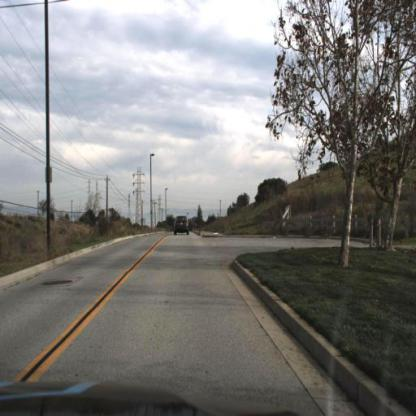car: (175, 211, 190, 238)
